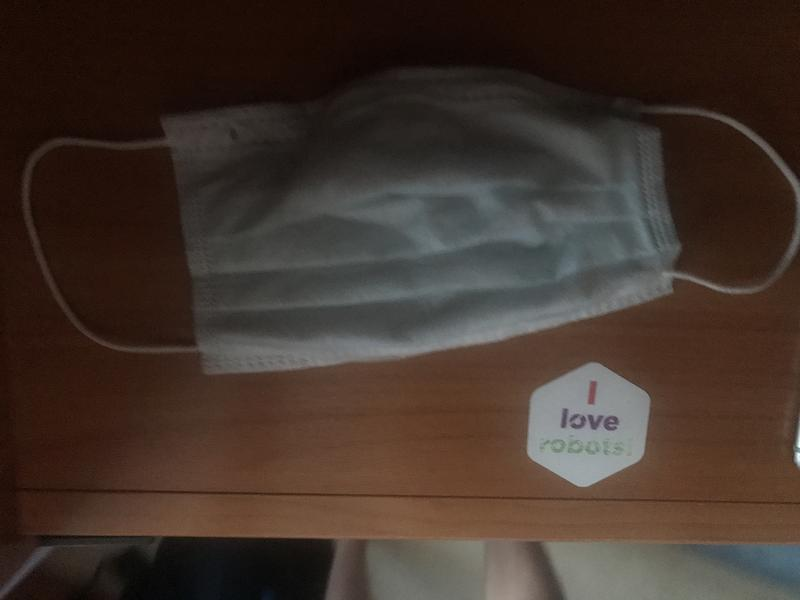medical_mask: (20, 60, 798, 372)
